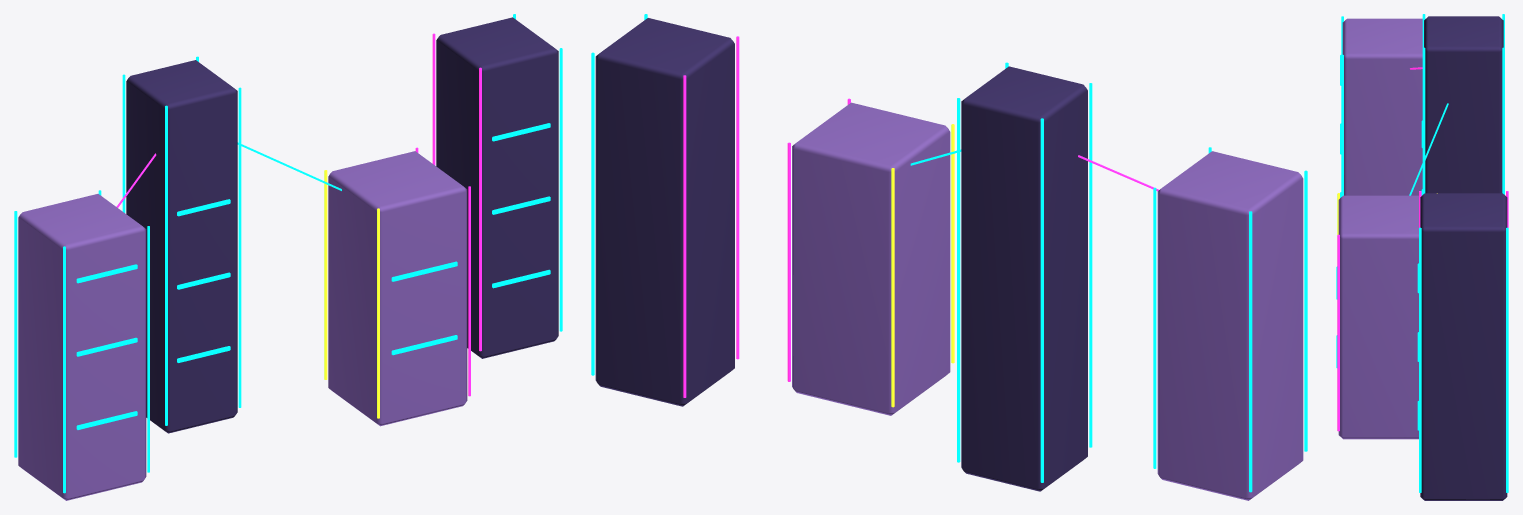
File: neon_skyline_r2.glb
3 views of the same model, side by side, from view 1: azimuth 30°, elevation 25°; view 2: azimuth 150°, elevation 25°; view 3: azimuth 270°, elevation 25° (orthographic). The views are drawn at different scales.
Visible parts, largest first — view 1: Neon tower, Neon tower.001, Neon tower.002, Neon tower.003, Vertical neon edge.006, Vertical neon edge.014, Vertical neon edge.001, Vertical neon edge.004, Vertical neon edge.012, Vertical neon edge.009, Vertical neon edge, Vertical neon edge.002 (+2 smaller); view 2: Neon tower.003, Neon tower.001, Neon tower, Neon tower.002, Vertical neon edge.005, Vertical neon edge.007, Vertical neon edge.004, Vertical neon edge.012, Vertical neon edge.015, Vertical neon edge.013, Vertical neon edge, Vertical neon edge.003 (+4 smaller); view 3: Neon tower.003, Neon tower.002, Neon tower, Neon tower.001, Vertical neon edge.014, Vertical neon edge.015, Vertical neon edge.010, Vertical neon edge.006, Vertical neon edge.007, Vertical neon edge.002, Sky tension cable.001.
Part boxes in pixels (x1,y1,x2,y2): Neon tower: [18, 194, 146, 500]; Neon tower.001: [126, 60, 237, 433]; Neon tower.002: [328, 151, 467, 426]; Neon tower.003: [436, 17, 558, 358]; Vertical neon edge.006: [238, 87, 241, 407]; Vertical neon edge.014: [559, 48, 562, 331]; Vertical neon edge.001: [14, 211, 17, 457]; Vertical neon edge.004: [165, 105, 167, 425]; Vertical neon edge.012: [479, 67, 481, 351]; Vertical neon edge.009: [324, 170, 327, 379]; Vertical neon edge: [63, 246, 65, 493]; Vertical neon edge.002: [147, 226, 149, 472]; Neon tower.003: [595, 18, 734, 406]; Neon tower.001: [961, 66, 1087, 491]; Neon tower: [1157, 151, 1303, 500]; Neon tower.002: [792, 102, 950, 415]; Vertical neon edge.005: [1040, 118, 1043, 482]; Vertical neon edge.007: [957, 98, 960, 462]; Vertical neon edge.004: [1089, 83, 1092, 447]; Vertical neon edge.012: [736, 36, 739, 359]; Vertical neon edge.015: [591, 52, 594, 375]; Vertical neon edge.013: [683, 75, 686, 397]; Vertical neon edge: [1304, 170, 1307, 451]; Vertical neon edge.003: [1153, 187, 1156, 468]; Neon tower.003: [1420, 193, 1507, 500]; Neon tower.002: [1338, 195, 1418, 439]; Neon tower: [1342, 18, 1425, 195]; Neon tower.001: [1424, 16, 1503, 193]; Vertical neon edge.014: [1419, 227, 1421, 492]; Vertical neon edge.015: [1506, 227, 1508, 492]; Vertical neon edge.010: [1337, 234, 1339, 431]; Vertical neon edge.006: [1422, 47, 1425, 194]; Vertical neon edge.007: [1502, 47, 1504, 194]; Vertical neon edge.002: [1341, 54, 1343, 196]; Sky tension cable.001: [1409, 103, 1448, 195].
Bounding box in the file's own units: 15.41 × 9 × 4.55.
